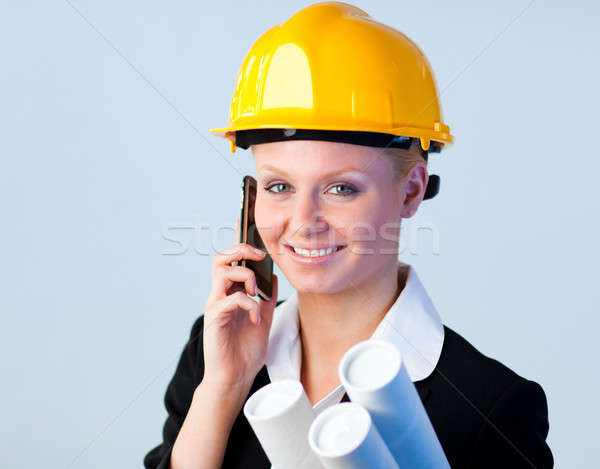phone: (234, 171, 276, 307)
talk: (194, 153, 386, 415)
